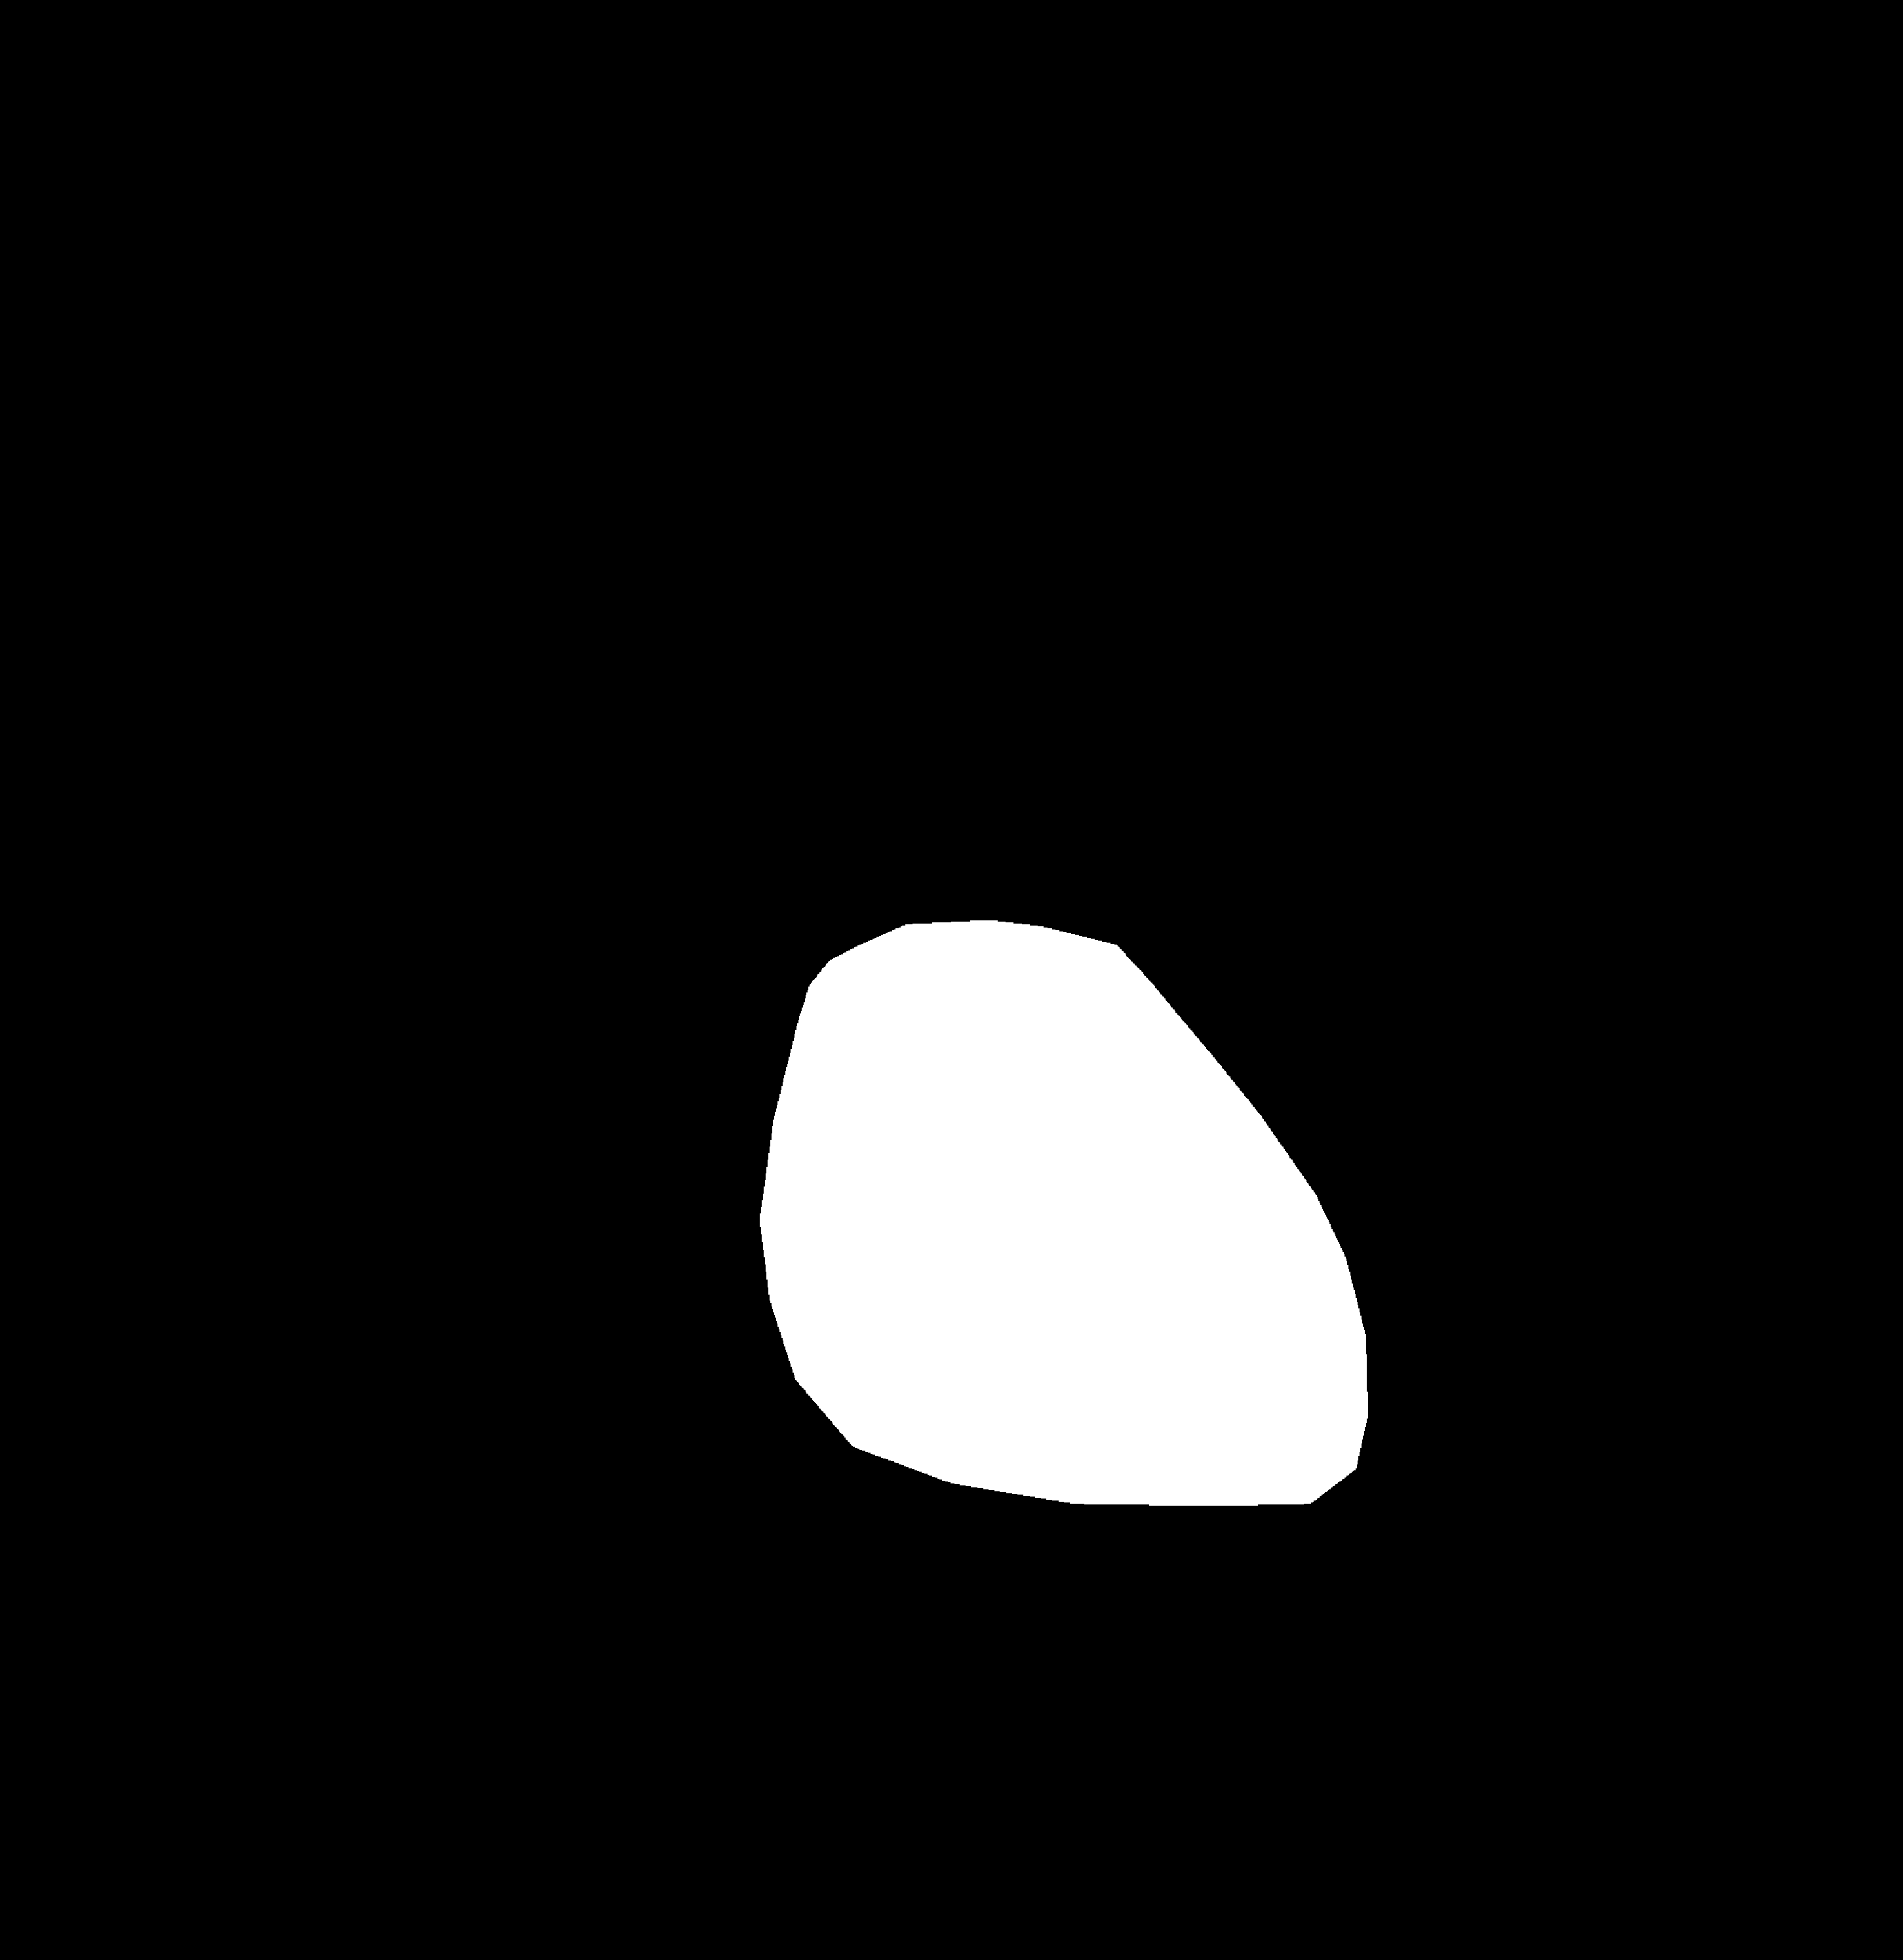heart: (755, 1008, 1373, 1558)
left_lung: (224, 243, 895, 1726)
right_lung: (1061, 243, 1661, 1759)
